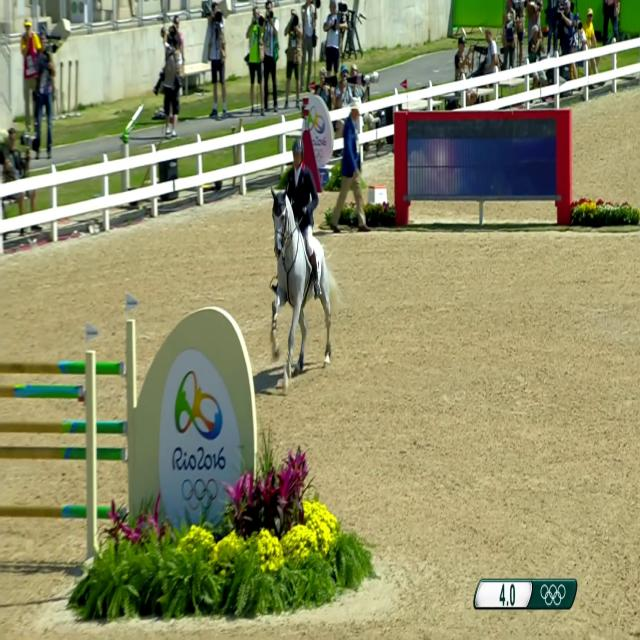Horse Running: (258, 178, 352, 396)
